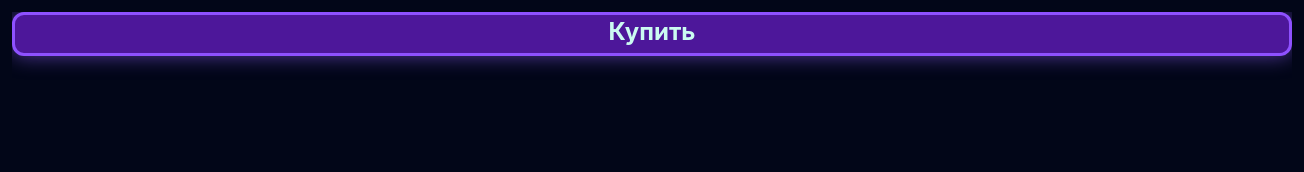
Scenario: BuyItemBtn UI › должен показывать ошибку, если не хватает золота
Click the button "Купить": (652, 34) [12,12,1292,56]
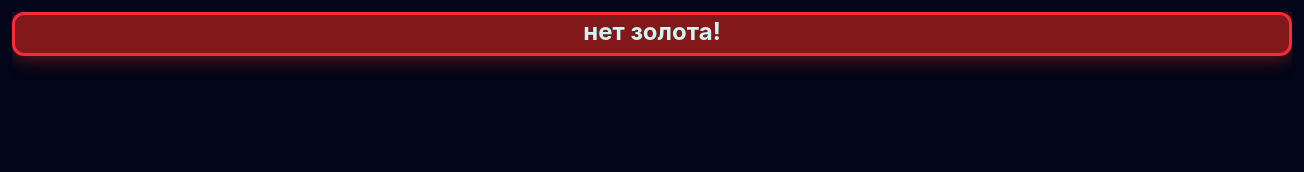
Check: the text "нет золота!" is shown, box [583,17,721,46]
